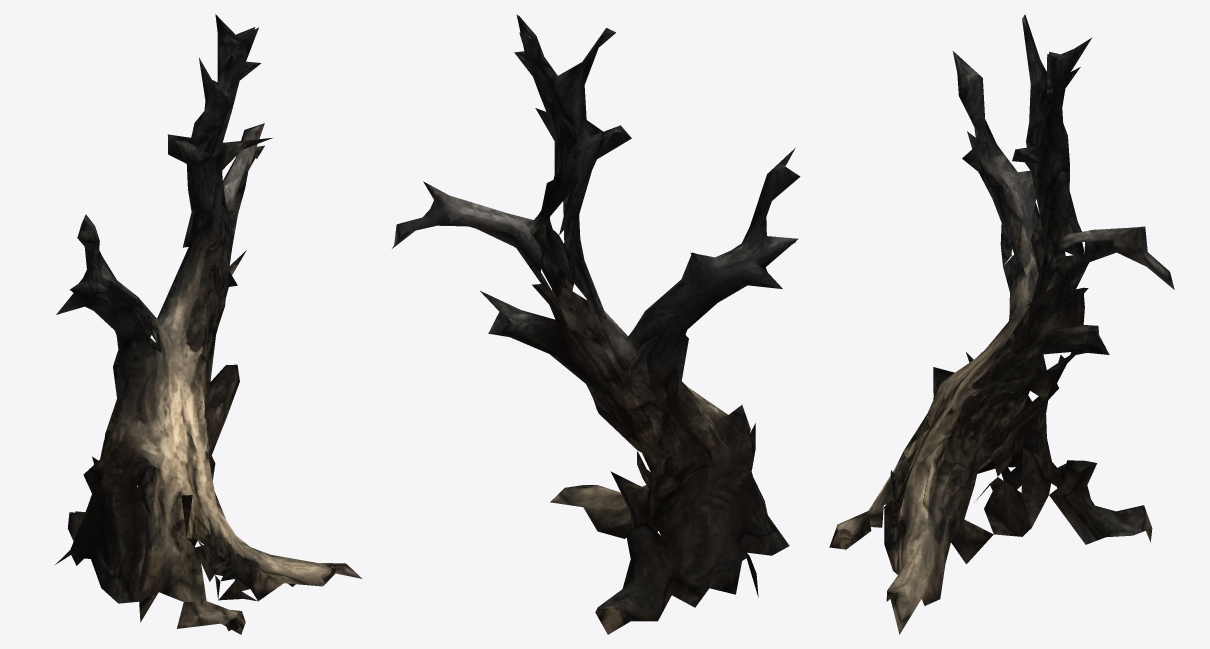
The model's file is desert-tree-4.glb.
The picture shows the model from 3 angles, left to right: view 1: azimuth 30°, elevation 25°; view 2: azimuth 150°, elevation 25°; view 3: azimuth 270°, elevation 25°; orthographic projection. The views are drawn at different scales.
Parts seen in each view (by area): view 1: geometry_0; view 2: geometry_0; view 3: geometry_0.
Boxes of the visible parts, box(x1,y1,x2,y2) form: geometry_0: box(55, 14, 362, 634); geometry_0: box(392, 14, 800, 634); geometry_0: box(829, 14, 1174, 634).
Bounding box in the file's own units: 0.5301 × 0.8709 × 0.5085.
Materials: 1 (1 with a texture image).
